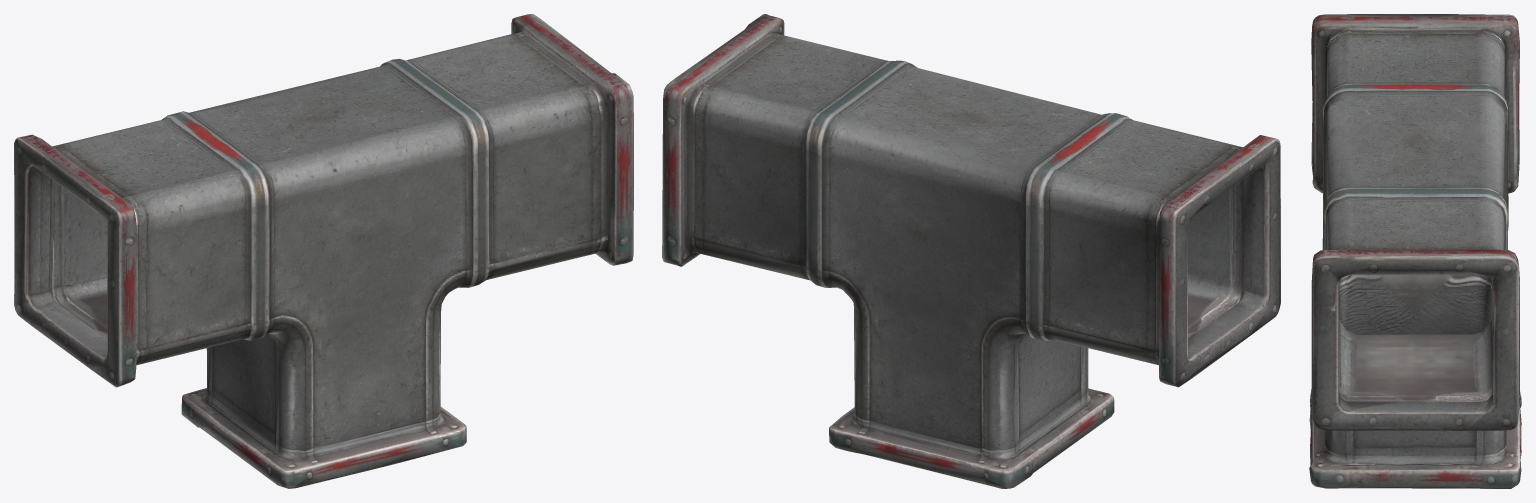
Rendered from Meshy_AI_Weathered_Ductwork_0625181309_texture.fbx.
The picture shows the model from 3 angles, left to right: view 1: azimuth 30°, elevation 25°; view 2: azimuth 150°, elevation 25°; view 3: azimuth 270°, elevation 25°; orthographic projection. The views are drawn at different scales.
Visible parts, largest first — view 1: Mesh1.0; view 2: Mesh1.0; view 3: Mesh1.0.
Boxes of the visible parts, <box> form: Mesh1.0: <box>14,14,633,488</box>; Mesh1.0: <box>662,14,1280,488</box>; Mesh1.0: <box>1309,14,1521,488</box>.
Bounding box in the file's own units: 191 × 113 × 70.14.
Materials: 1 (1 with a texture image).
